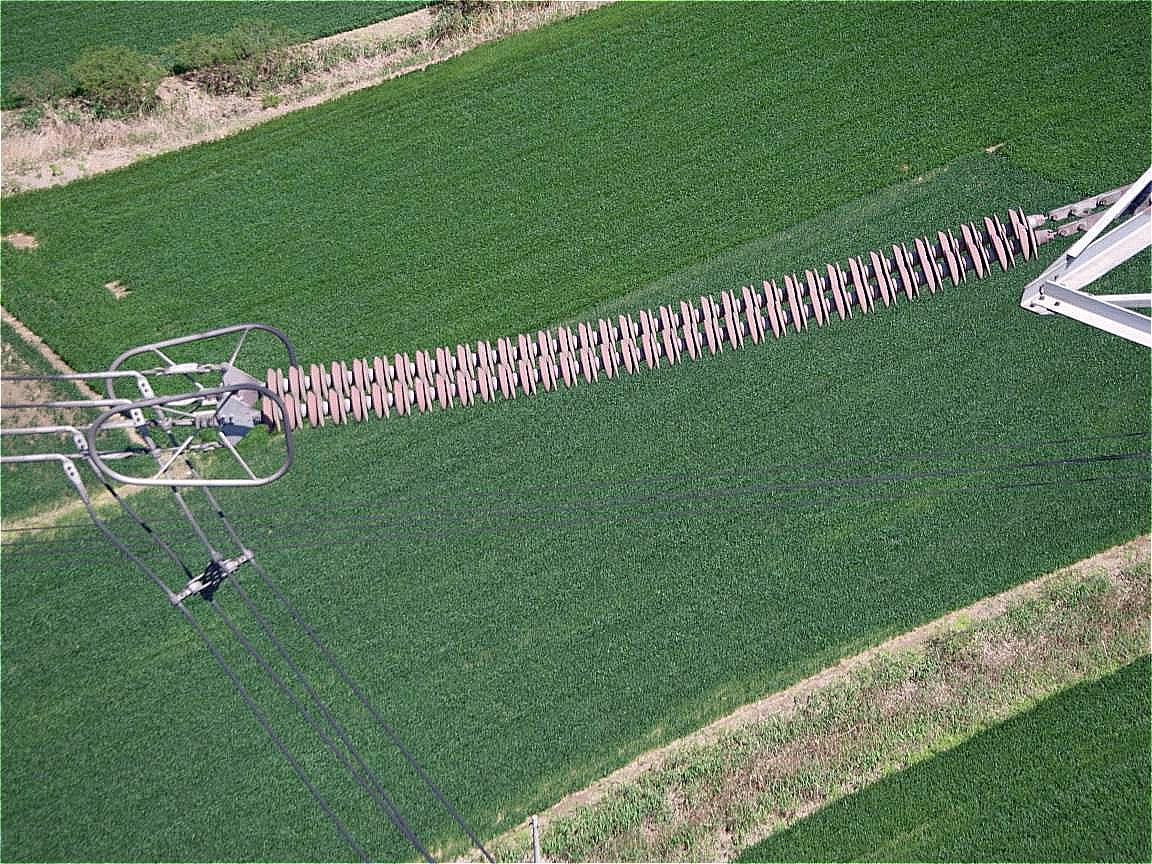insultor2: (249, 186, 1056, 442)
